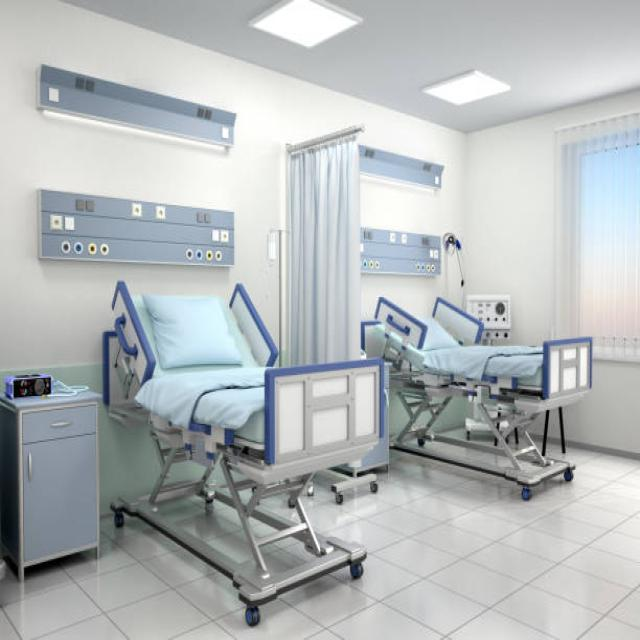bed: (103, 279, 390, 626), (361, 294, 592, 499)
